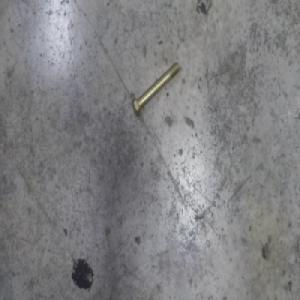Bolt: (130, 61, 180, 118)
